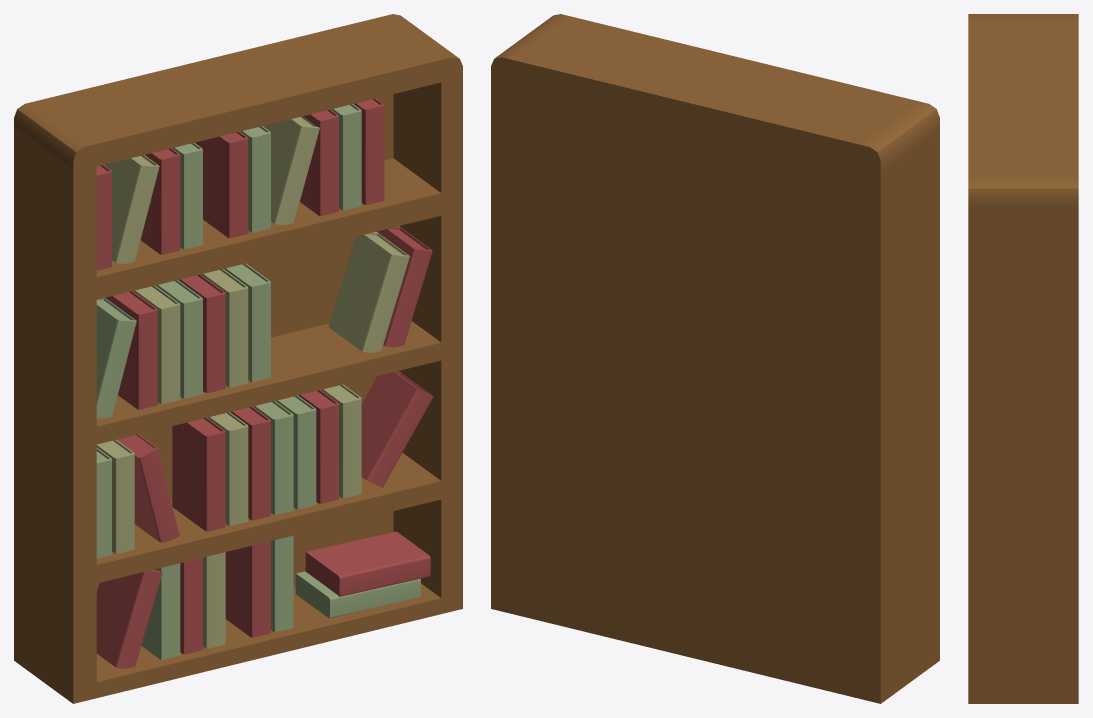
Rendered from bookcase.fbx.
The picture shows the model from 3 angles, left to right: view 1: azimuth 30°, elevation 25°; view 2: azimuth 150°, elevation 25°; view 3: azimuth 270°, elevation 25°; orthographic projection. The views are drawn at different scales.
Parts seen in each view (by area): view 1: pCube205; view 2: pCube205; view 3: pCube205.
Part boxes in pixels (x1=…): pCube205: x1=14, y1=14, x2=462, y2=703; pCube205: x1=491, y1=14, x2=939, y2=703; pCube205: x1=968, y1=14, x2=1078, y2=703.
Bounding box in the file's own units: 136 × 184 × 35.65.
